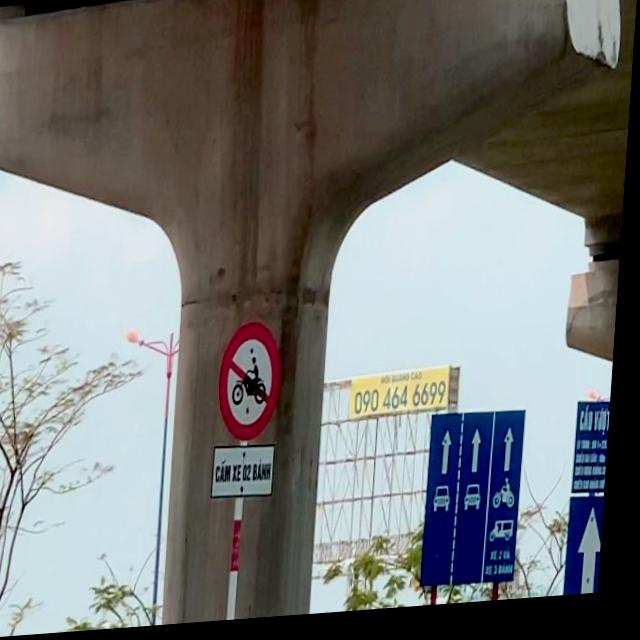Duong mot chieu: (570, 502, 611, 605)
